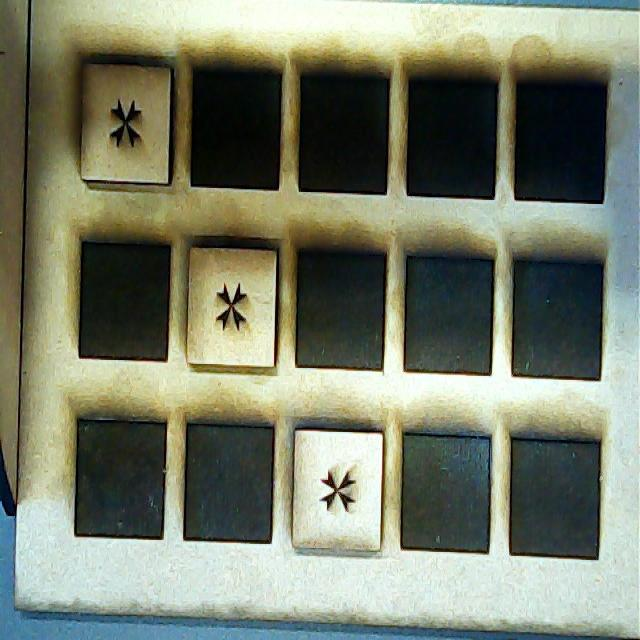maltese: (188, 242, 277, 372), (292, 428, 384, 552), (84, 60, 171, 186)
